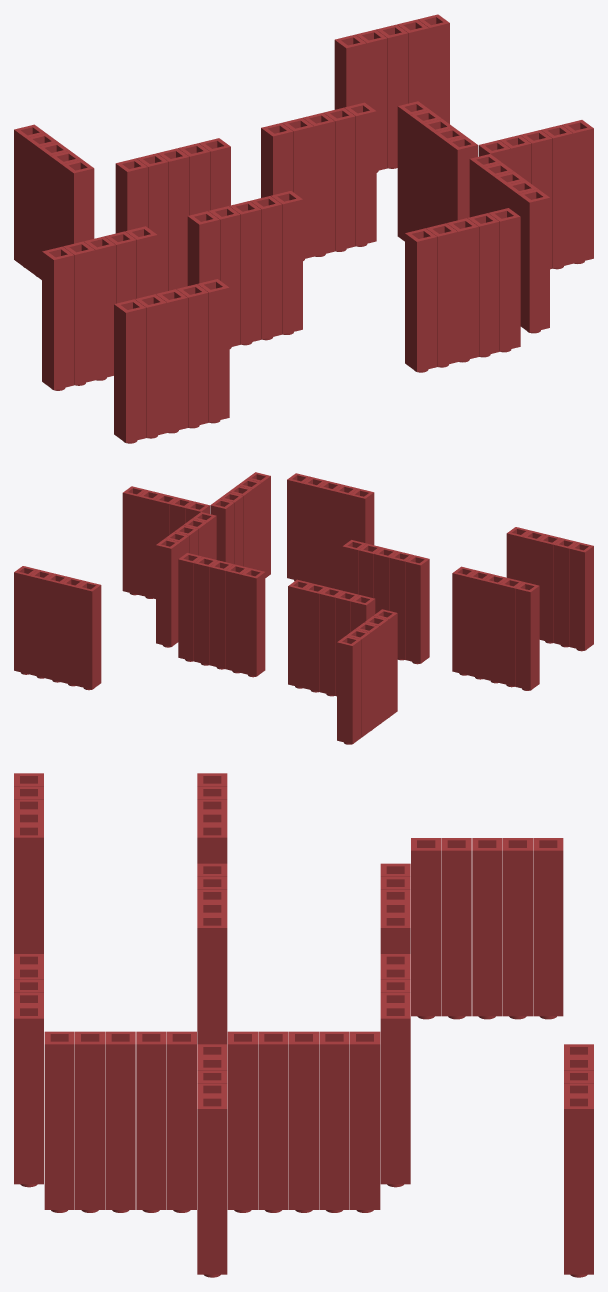
File: red.glb
The picture shows the model from 3 angles, top to bottom: view 1: azimuth 30°, elevation 25°; view 2: azimuth 150°, elevation 25°; view 3: azimuth 270°, elevation 25°; orthographic projection. The views are drawn at different scales.
Parts seen in each view (by area): view 1: Part-2453a_dot_dat (×53); view 2: Part-2453a_dot_dat (×53); view 3: Part-2453a_dot_dat (×23).
Part boxes in pixels (left/top/right/bottom): Part-2453a_dot_dat (×53): left=14, top=14, right=593, bottom=443; Part-2453a_dot_dat (×53): left=14, top=472, right=593, bottom=744; Part-2453a_dot_dat (×23): left=14, top=825, right=593, bottom=1277.
Size of the model in its own units: 20.79 by 4.95 by 15.19.
